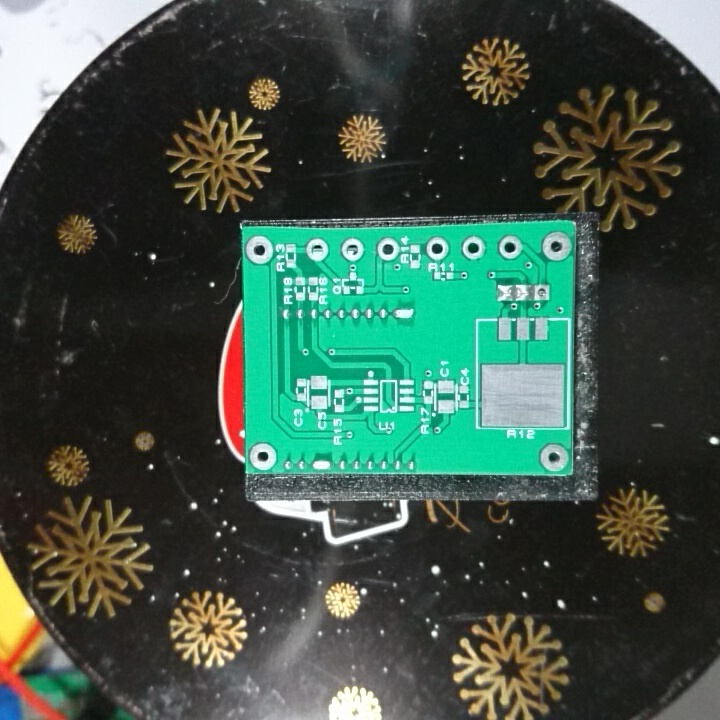F: (536, 440, 571, 474), (540, 229, 572, 263), (244, 233, 276, 266), (247, 439, 279, 472), (304, 236, 333, 266), (339, 235, 366, 263), (460, 235, 487, 263), (424, 235, 451, 261), (496, 234, 524, 259), (374, 237, 401, 262), (531, 281, 553, 305)
P: (390, 302, 417, 324), (309, 456, 335, 475)
